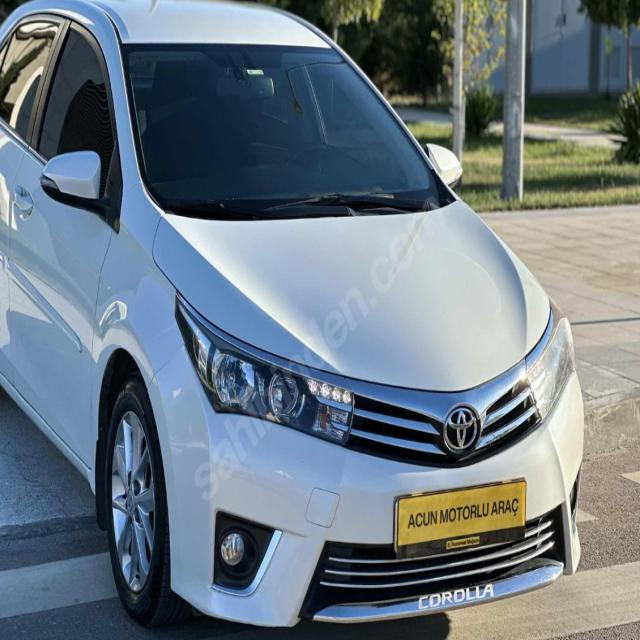toyota: (440, 405, 484, 455)
